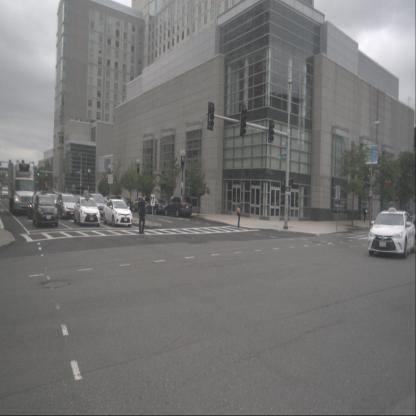human-pedestrian-adult: (138, 193, 146, 234), (236, 199, 242, 228), (362, 204, 368, 222)
vehicle-car: (367, 206, 415, 260), (74, 190, 100, 226), (103, 198, 133, 228), (32, 195, 58, 227), (164, 194, 193, 218), (56, 192, 77, 218), (85, 193, 106, 217), (28, 196, 48, 220), (132, 196, 152, 213), (271, 196, 295, 210), (146, 200, 166, 215), (119, 198, 133, 212), (355, 200, 370, 212), (335, 199, 351, 210), (0, 186, 10, 198)
vehicle-truck: (8, 159, 35, 217)
